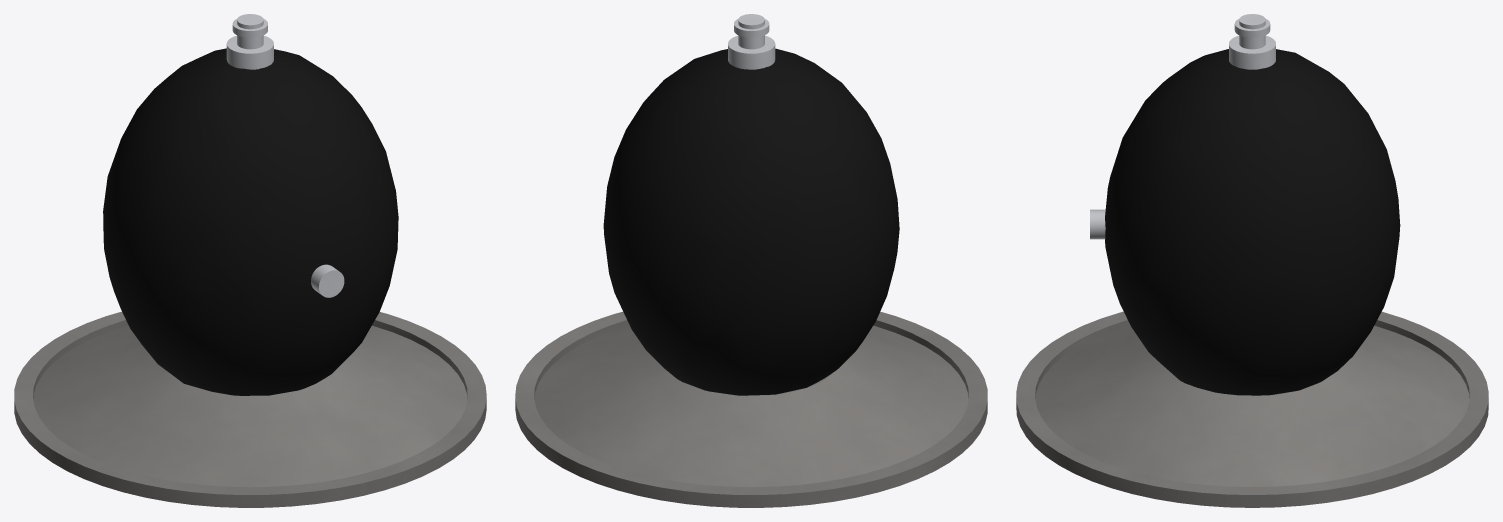
File: tank04_xenon_copv_s.glb
The picture shows the model from 3 angles, left to right: view 1: azimuth 30°, elevation 25°; view 2: azimuth 150°, elevation 25°; view 3: azimuth 270°, elevation 25°; orthographic projection.
Visible parts, largest first — view 1: copv, support_skirt, polar_bosses, side_port; view 2: copv, support_skirt, polar_bosses; view 3: copv, support_skirt, polar_bosses.
Part boxes in pixels (bbox=[...]): copv: bbox=[103, 48, 398, 395]; support_skirt: bbox=[14, 311, 486, 507]; polar_bosses: bbox=[226, 14, 273, 69]; side_port: bbox=[311, 264, 344, 297]; copv: bbox=[603, 48, 899, 395]; support_skirt: bbox=[515, 311, 987, 507]; polar_bosses: bbox=[728, 14, 775, 69]; copv: bbox=[1105, 49, 1400, 395]; support_skirt: bbox=[1016, 311, 1488, 507]; polar_bosses: bbox=[1229, 14, 1275, 69].
Size of the model in its own units: 1.25 by 1.13 by 1.25.
3 materials, 2 textured.
